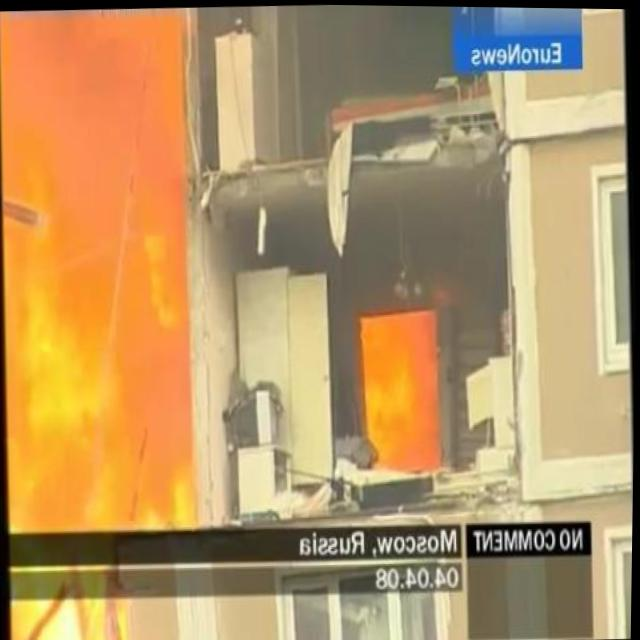fire: (0, 4, 202, 535), (360, 305, 443, 479)
